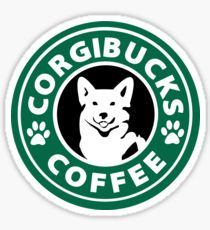starbucks Fake: (2, 14, 210, 220)
